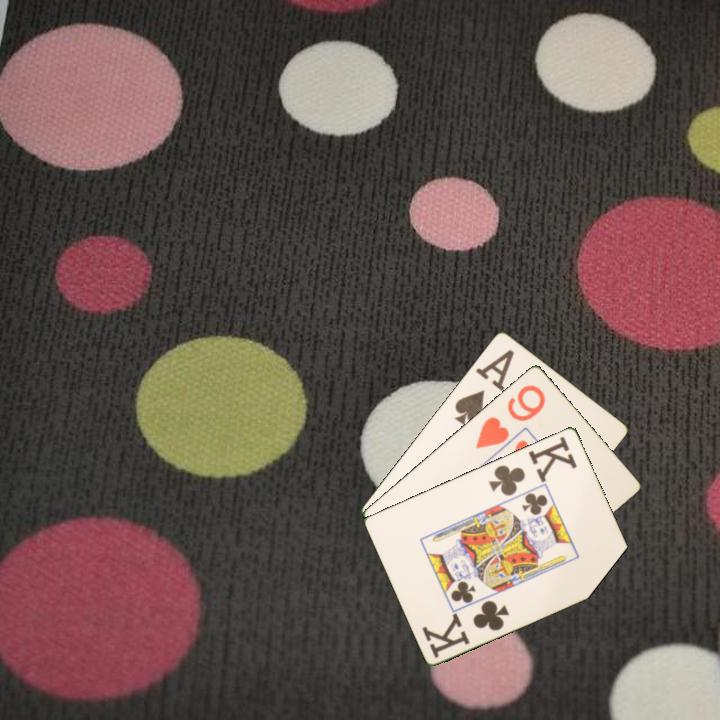9h: (472, 381, 548, 451)
As: (450, 353, 510, 428)
Kc: (485, 432, 580, 499), (419, 596, 512, 661)
